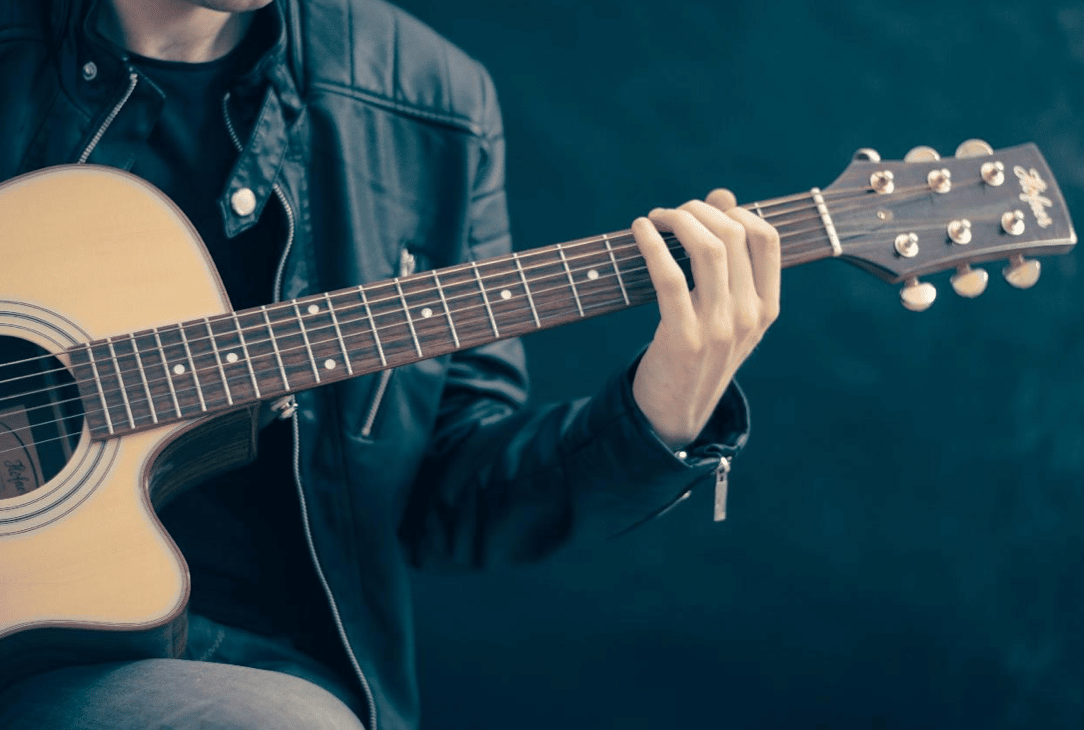guitar: (0, 145, 1083, 722)
